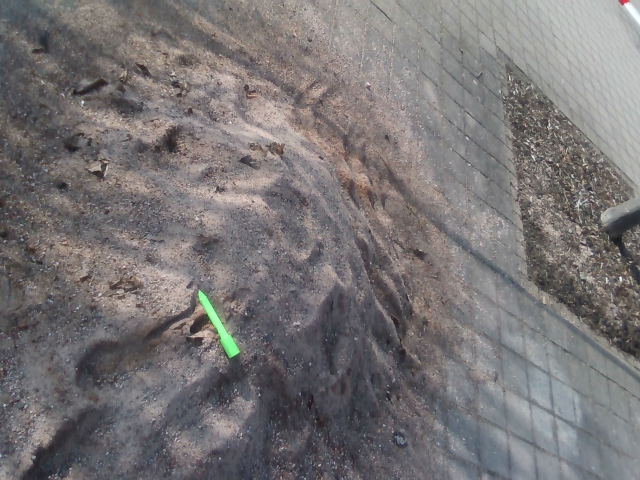Probe: (190, 280, 247, 371)
